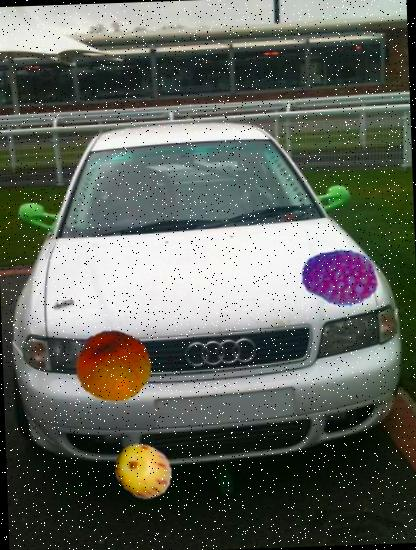Mandarine: (74, 328, 152, 405)
Pepino: (114, 442, 174, 502)
Raspberry: (300, 240, 380, 320)
